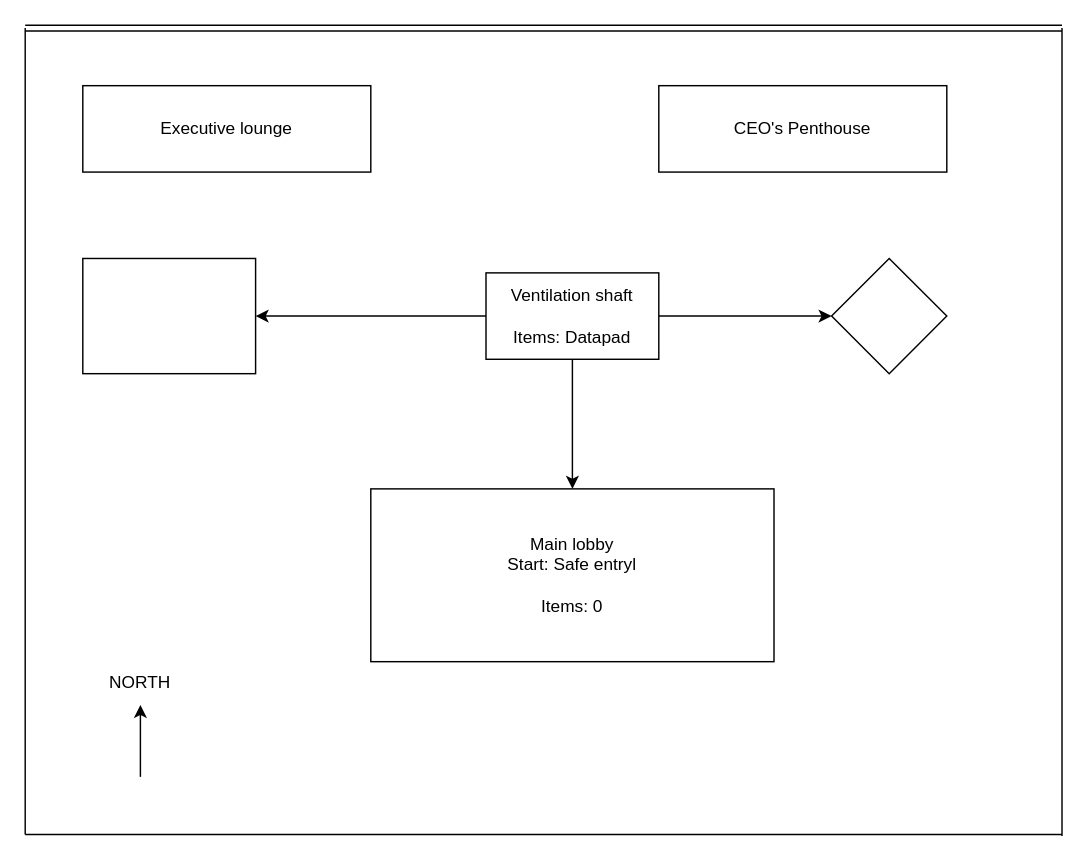
The diagram is 1089 pixels wide and 863 high, and some of its shapes have lost their labels. Here are the shapes that lost their labels. From the top down, the box of each, then its label:
(81, 257, 256, 374): Server HUB
(830, 257, 947, 374): Security Substation
